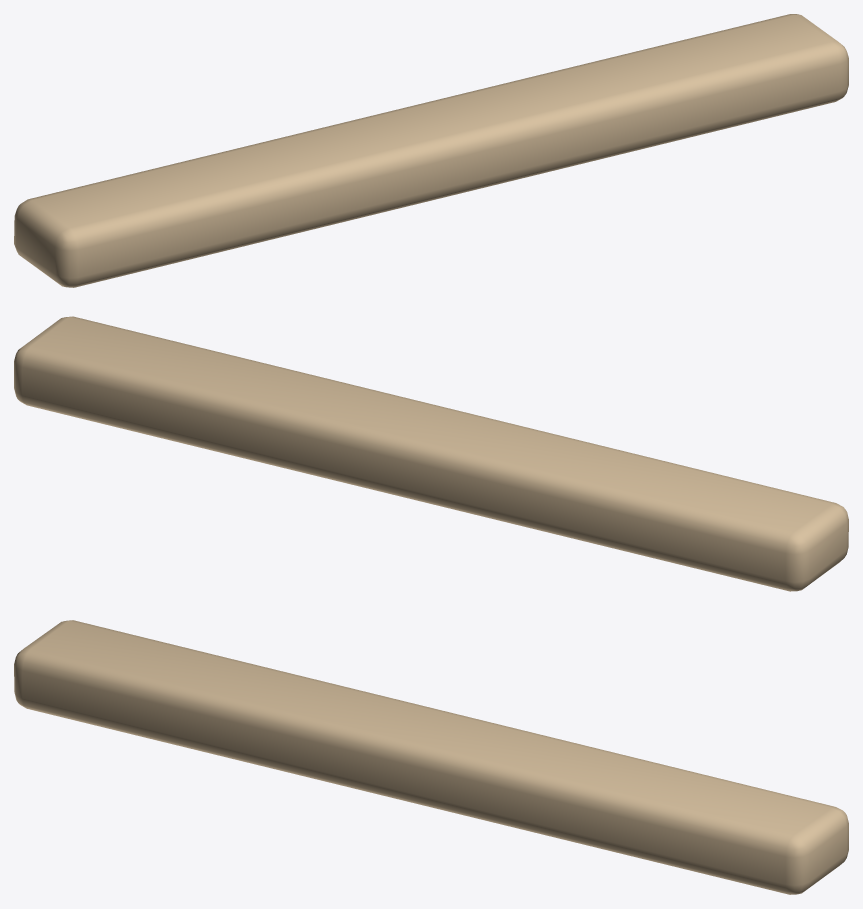
The model's file is STUFE_1MC.glb.
3 renders of one model, top to bottom at view 1: azimuth 30°, elevation 25°; view 2: azimuth 150°, elevation 25°; view 3: azimuth 330°, elevation 25°, orthographic.
Parts seen in each view (by area): view 1: STUFE_1MC; view 2: STUFE_1MC; view 3: STUFE_1MC.
Part boxes in pixels (left/top/right/bottom): STUFE_1MC: left=14, top=14, right=848, bottom=287; STUFE_1MC: left=14, top=316, right=848, bottom=591; STUFE_1MC: left=14, top=620, right=848, bottom=894.
Bounding box in the file's own units: 6.35 × 0.4545 × 0.7653.
